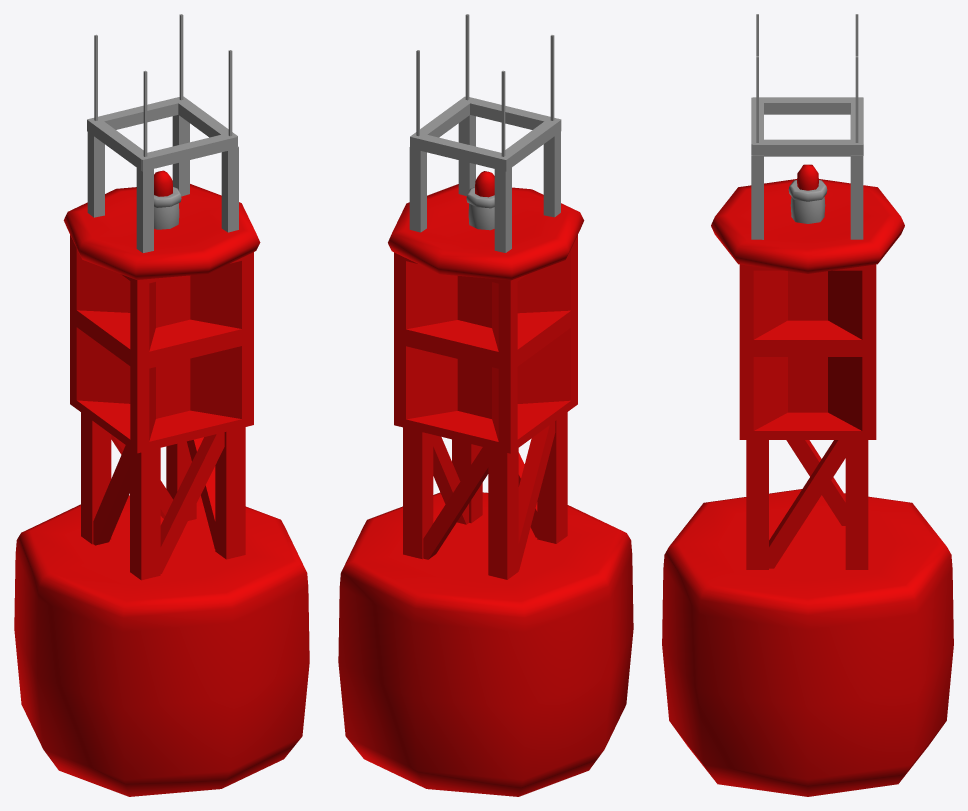
Rendered from Bouy.fbx.
The picture shows the model from 3 angles, left to right: view 1: azimuth 30°, elevation 25°; view 2: azimuth 150°, elevation 25°; view 3: azimuth 270°, elevation 25°; orthographic projection.
Visible parts, largest first — view 1: bouy1_pCube55; view 2: bouy1_pCube55; view 3: bouy1_pCube55.
Part boxes in pixels (x1,y1,x2,y2): bouy1_pCube55: (14,14,309,796); bouy1_pCube55: (338,14,633,796); bouy1_pCube55: (662,14,953,796).
Size of the model in its own units: 3.62 by 9.73 by 3.62.
